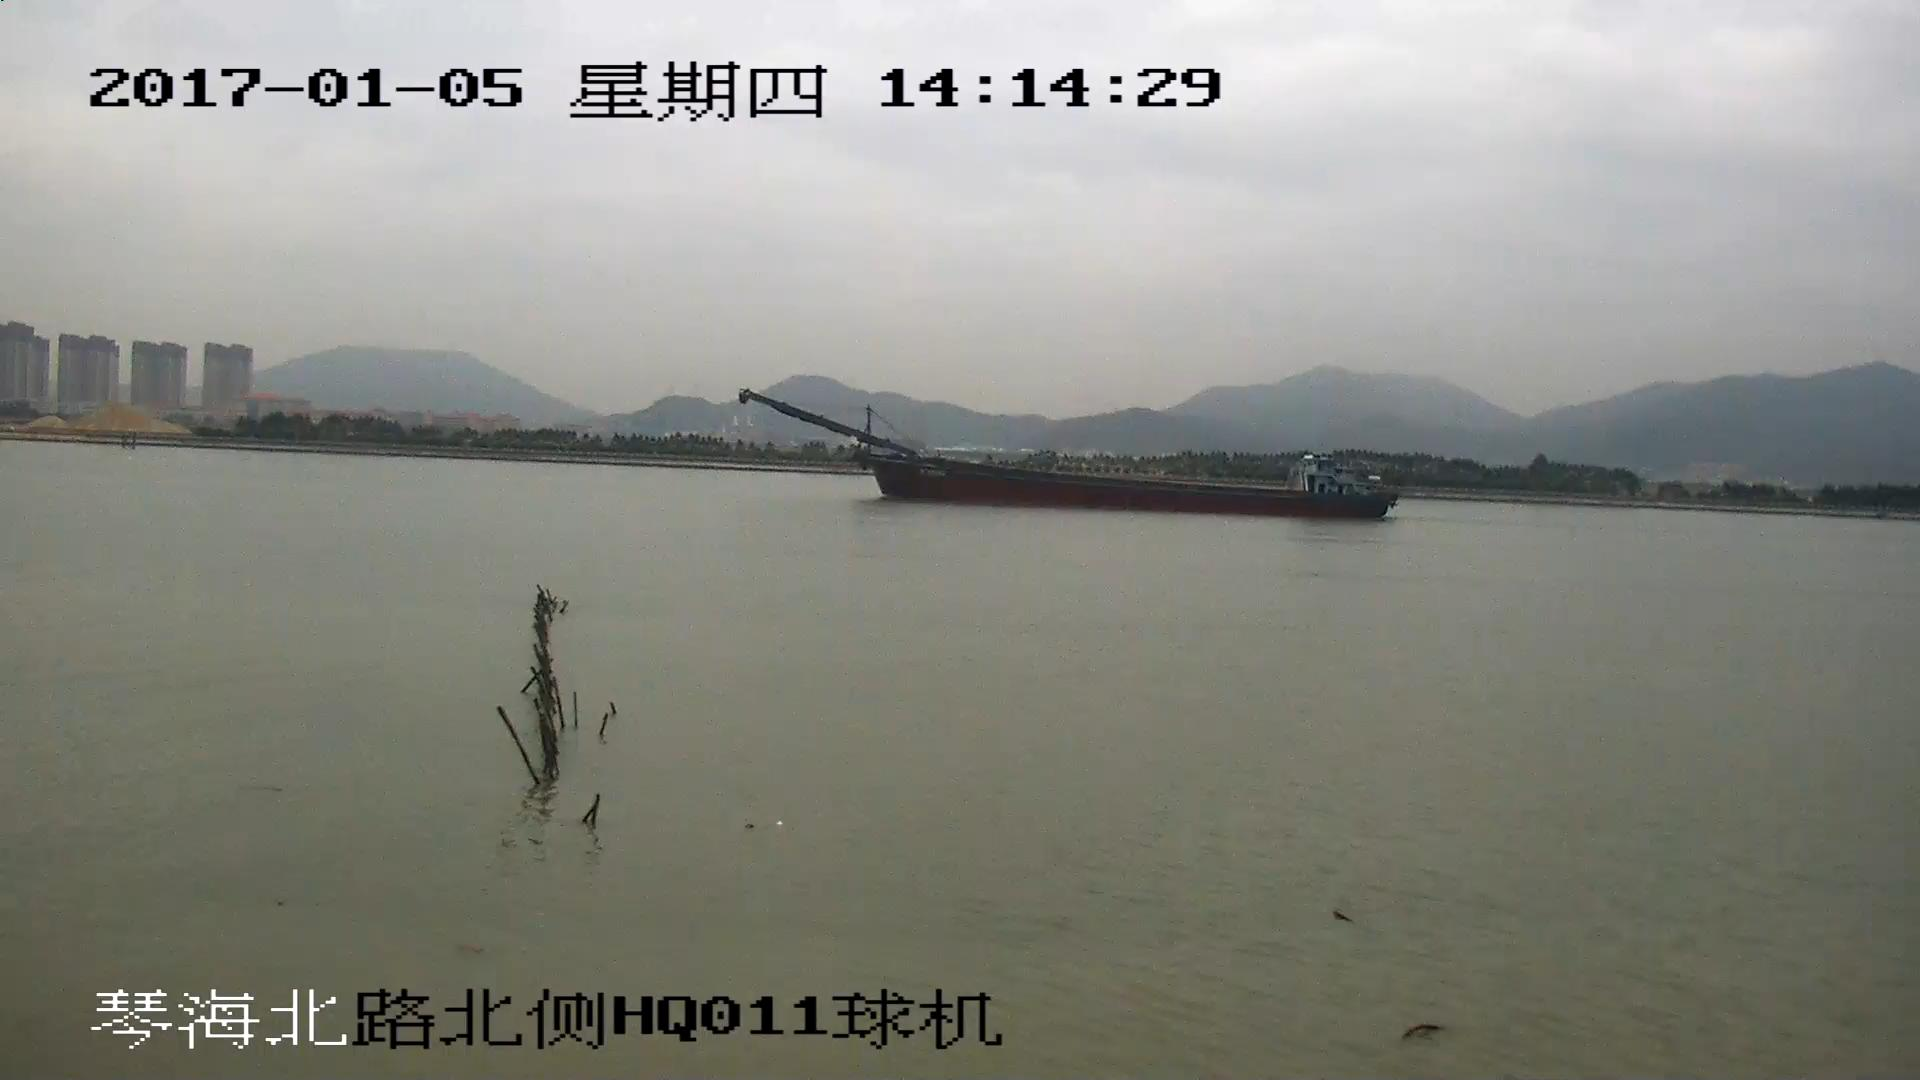bulk cargo carrier: (741, 391, 1394, 520)
